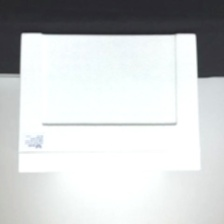foam_box: (14, 29, 205, 175)
